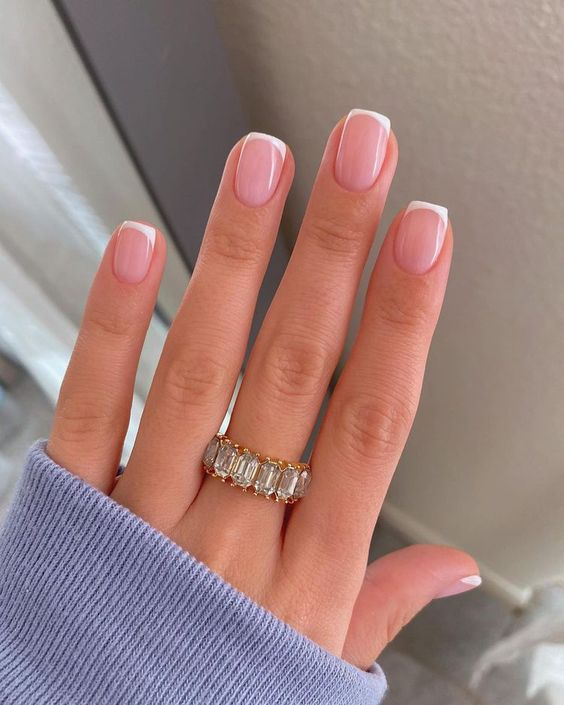nails: (331, 103, 397, 194), (392, 193, 457, 277), (229, 124, 291, 209), (103, 211, 162, 291), (431, 558, 487, 606)
